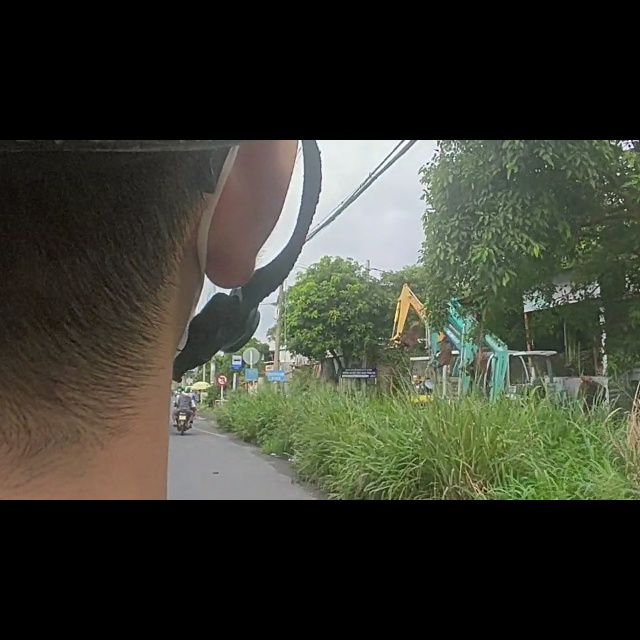bien_cam: (231, 380, 243, 409), (217, 416, 229, 436)
